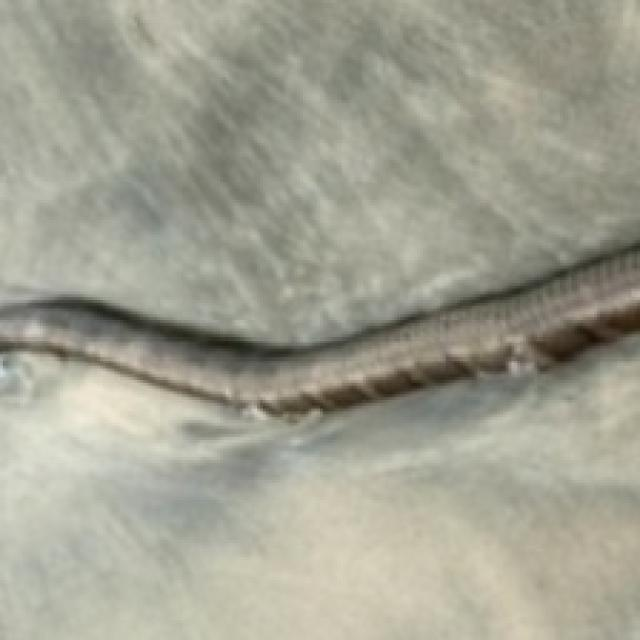king cobra: (0, 243, 637, 417)
